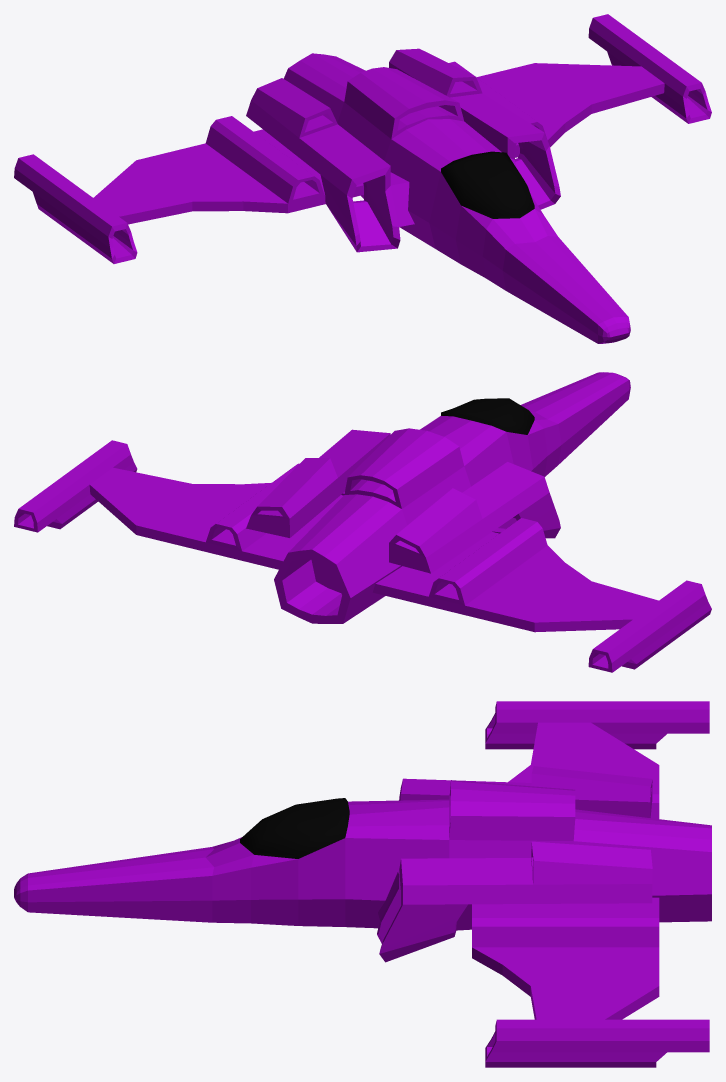
Rendered from spaceship.glb.
3 views of the same model, one above another, from view 1: azimuth 30°, elevation 25°; view 2: azimuth 150°, elevation 25°; view 3: azimuth 270°, elevation 25° (orthographic). The views are drawn at different scales.
Parts seen in each view (by area): view 1: Spaceship3_Cube; view 2: Spaceship3_Cube; view 3: Spaceship3_Cube.
Part boxes in pixels (x1,y1,x2,y2): Spaceship3_Cube: (14, 14, 711, 343); Spaceship3_Cube: (14, 372, 711, 672); Spaceship3_Cube: (14, 701, 711, 1067).
Bounding box in the file's own units: 0.6201 × 0.111 × 0.5501.
